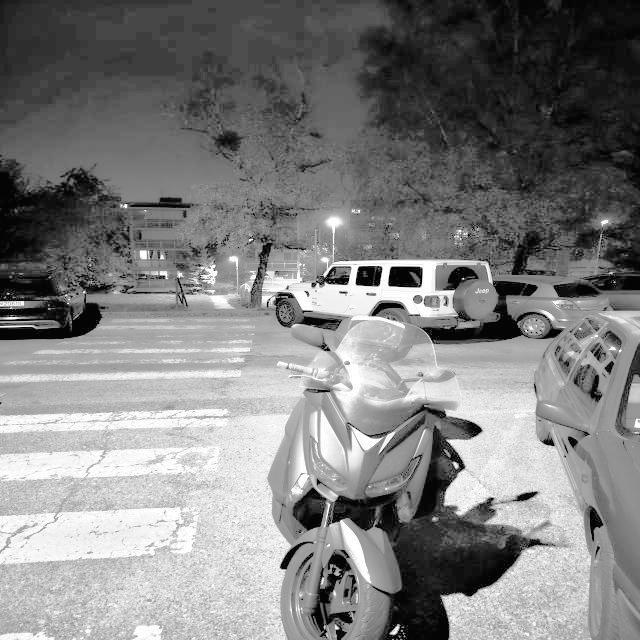Car: (525, 303, 640, 640), (266, 256, 502, 338), (0, 260, 90, 338)
Light: (319, 216, 352, 262), (592, 210, 615, 273), (221, 248, 250, 287)
Motorcycle: (253, 314, 464, 639)
